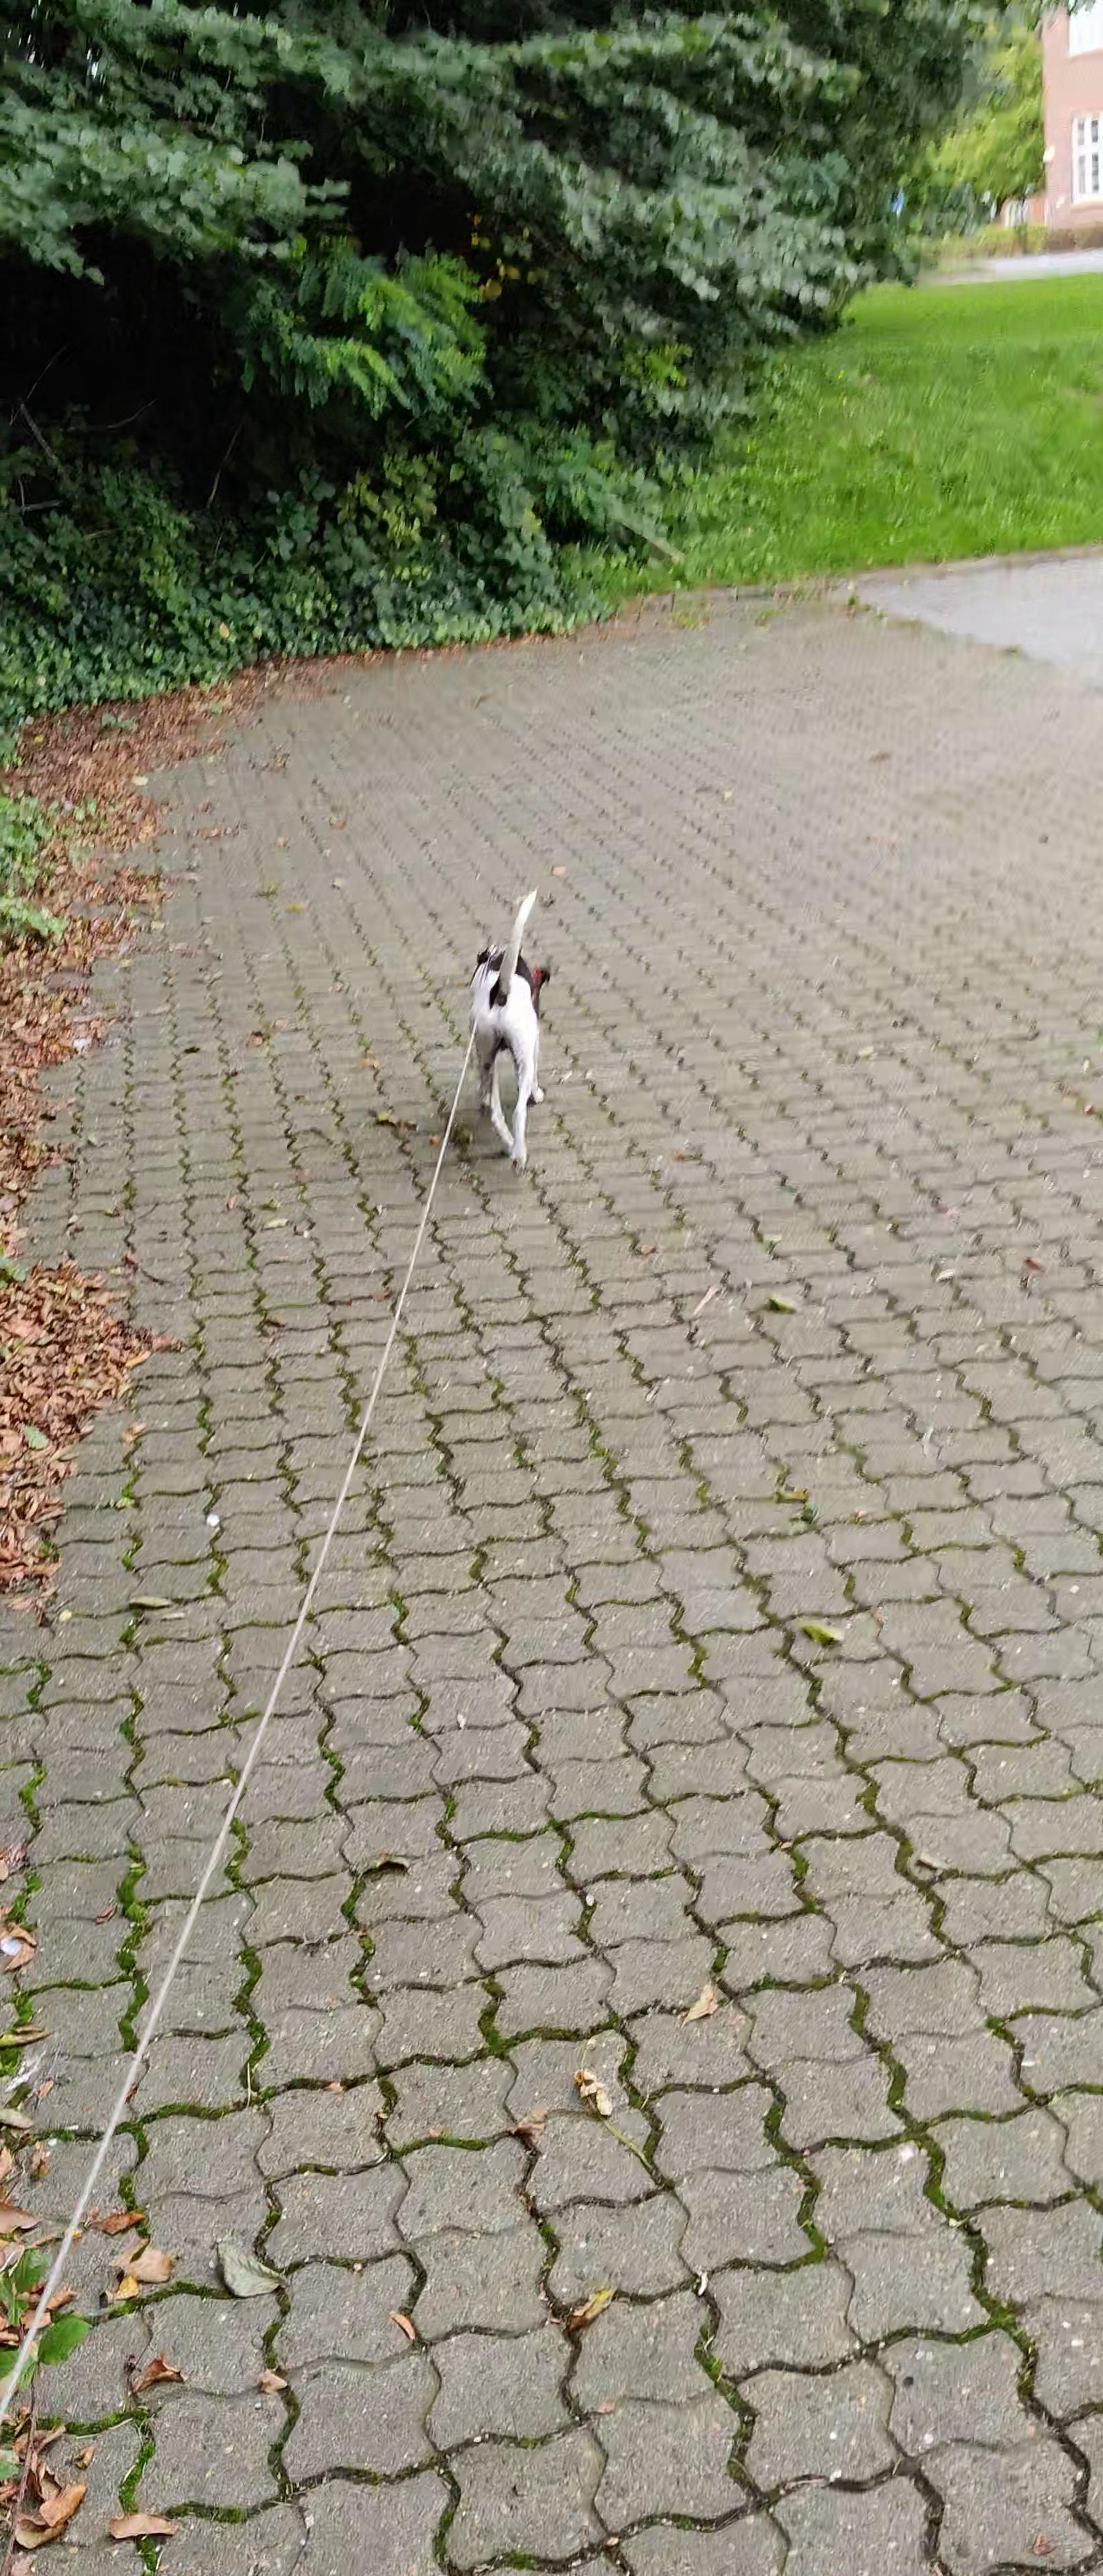Dog: (449, 874, 565, 1181)
